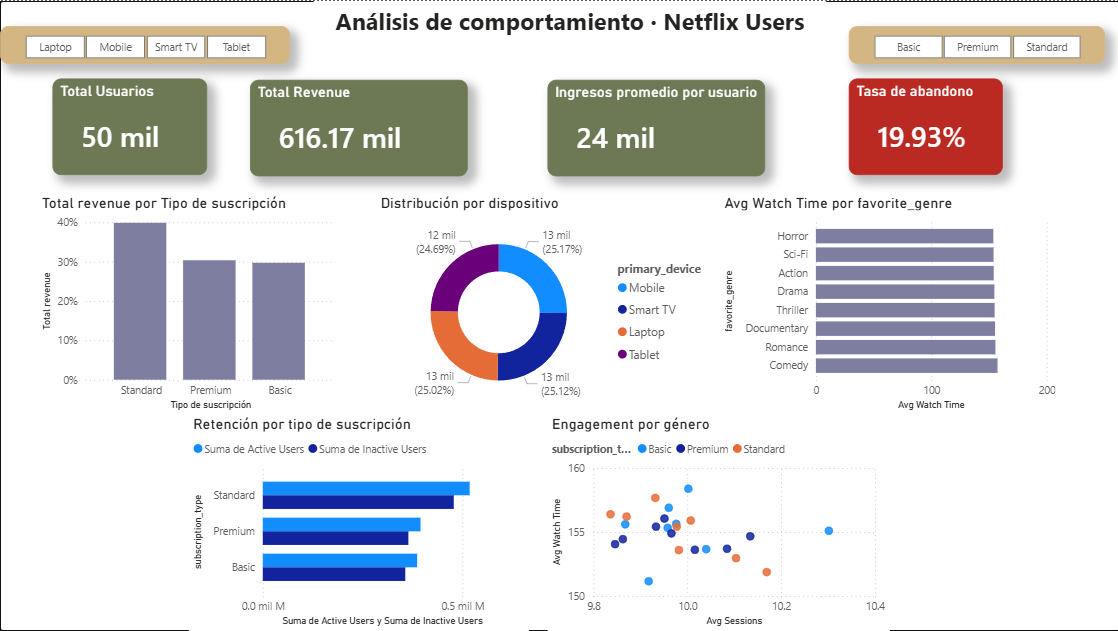

Layout of this report page (visuals, bound fields, positions):
{"tool":"powerbi","page":{"name":"Página 1","canvas":[1280,720],"ordinal":0},"visuals":[{"type":"slicer","fields":{"Values":["netflix_user_behavior_dataset.subscription_type"]},"box":[970,28.6,292.9,42.9],"z":0},{"type":"slicer","fields":{"Values":["netflix_user_behavior_dataset.primary_device"]},"box":[0,28.6,331.4,42.9],"z":1},{"type":"cardVisual","title":"Total Usuarios","fields":{"Data":["churned.Total Users"]},"box":[60,88.3,177.1,110],"z":2},{"type":"cardVisual","title":"Total Revenue","fields":{"Data":["Sum(dataset.monthly_fee)"]},"box":[285.7,90,248.6,110],"z":3},{"type":"cardVisual","title":"Ingresos promedio por usuario","fields":{"Data":["churned.Inactive Users"]},"box":[625.7,90,248.6,110],"z":4},{"type":"cardVisual","title":"Tasa de abandono","fields":{"Data":["churned.Churn Rate"]},"box":[970,88.6,175.7,110],"z":5},{"type":"clusteredColumnChart","fields":{"Y":["churned.total revenue"],"Category":["netflix_user_behavior_dataset.subscription_type"]},"box":[42.9,220,345.7,252.9],"z":6},{"type":"donutChart","title":"Distribución por dispositivo","fields":{"Y":["churned.Total Users"],"Category":["netflix_user_behavior_dataset.primary_device"]},"box":[430,220,391.4,252.9],"z":7},{"type":"clusteredBarChart","fields":{"Y":["dataset.Avg Watch Time"],"Category":["netflix_user_behavior_dataset.favorite_genre"]},"box":[822.9,220,388.6,252.9],"z":8},{"type":"clusteredBarChart","title":"Retención por tipo de suscripción","fields":{"Y":["Sum(dataset.Active Users)","Sum(dataset.Inactive Users)"],"Category":["netflix_user_behavior_dataset.subscription_type"]},"box":[215.7,472.9,388.6,247.1],"z":9},{"type":"scatterChart","title":"Engagement por género","fields":{"Y":["dataset.Avg Watch Time"],"X":["dataset.Avg Sessions"],"Category":["netflix_user_behavior_dataset.favorite_genre"],"Series":["netflix_user_behavior_dataset.subscription_type"]},"box":[625.7,472.9,391.4,247.1],"z":10},{"type":"textbox","box":[358.6,0,585.7,47.1],"z":11}]}

Visuals, with their boxes in screenshot pixels (x1, y1, x2, y2), scaled from the page's 1280x720 canvas onto the 1118x631 screenshot:
slicer - netflix_user_behavior_dataset.subscription_type: 847:25:1103:63
slicer - netflix_user_behavior_dataset.primary_device: 0:25:289:63
"Total Usuarios" cardVisual: 52:77:207:174
"Total Revenue" cardVisual: 250:79:467:175
"Ingresos promedio por usuario" cardVisual: 547:79:764:175
"Tasa de abandono" cardVisual: 847:78:1001:174
clusteredColumnChart - churned.total revenue x netflix_user_behavior_dataset.subscription_type: 37:193:339:414
"Distribución por dispositivo" donutChart: 376:193:717:414
clusteredBarChart - dataset.Avg Watch Time x netflix_user_behavior_dataset.favorite_genre: 719:193:1058:414
"Retención por tipo de suscripción" clusteredBarChart: 188:414:528:630
"Engagement por género" scatterChart: 547:414:888:630
textbox: 313:0:825:41
